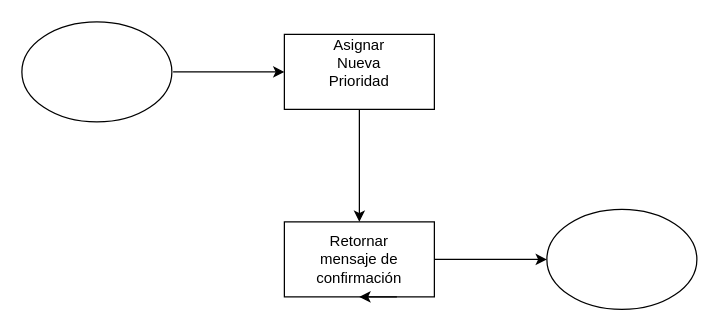
Some shapes in this 719 by 331 pixel diagram are drawn without their labels. The shapes that lost their labels are listed below. From the top down, each one's centre as x and y in pixels, then its label:
(96,71): Inicio
(621,258): Fin
